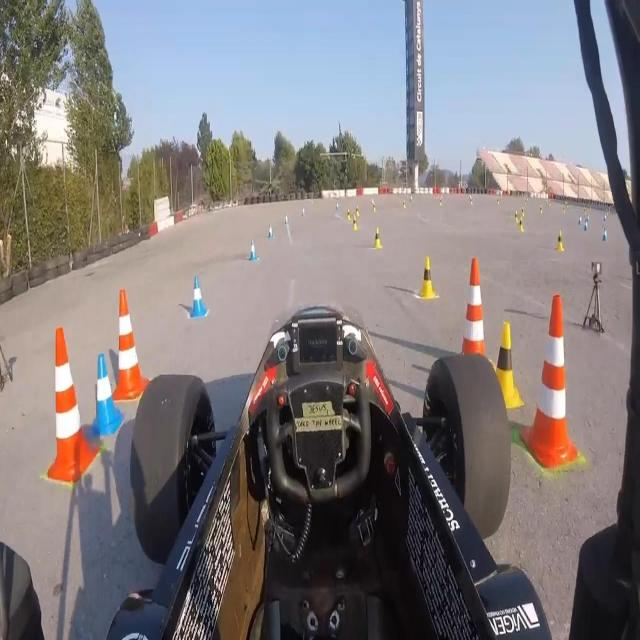blue_cone: (94, 349, 123, 444), (189, 272, 210, 323), (246, 232, 258, 264), (601, 226, 609, 244), (268, 220, 274, 241), (583, 219, 589, 233), (285, 213, 288, 224)
large_orange_cone: (522, 298, 582, 476), (37, 328, 100, 490), (111, 286, 156, 404), (453, 257, 492, 384)
yellow_cone: (488, 310, 523, 416), (418, 255, 440, 303), (374, 223, 382, 249), (556, 229, 565, 252), (346, 206, 352, 222), (518, 215, 524, 231), (352, 213, 357, 232), (355, 202, 359, 217), (515, 208, 519, 223)
